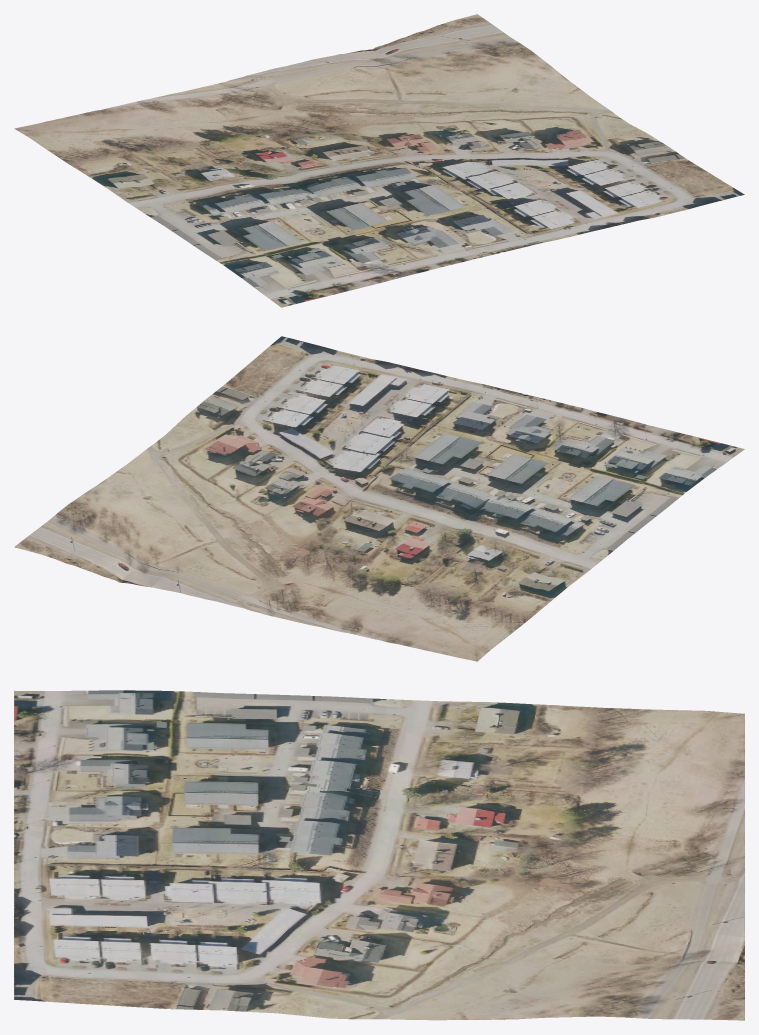
File: CM_Terrain_24490254_6818770.fbx
3 renders of one model, top to bottom at view 1: azimuth 30°, elevation 25°; view 2: azimuth 150°, elevation 25°; view 3: azimuth 270°, elevation 25°, orthographic. The views are drawn at different scales.
Parts seen in each view (by area): view 1: CM_Terrain_24490254_6818770_LOD0; view 2: CM_Terrain_24490254_6818770_LOD0; view 3: CM_Terrain_24490254_6818770_LOD0.
Boxes of the visible parts, bbox=[...] form: CM_Terrain_24490254_6818770_LOD0: bbox=[14, 14, 744, 307]; CM_Terrain_24490254_6818770_LOD0: bbox=[14, 336, 744, 661]; CM_Terrain_24490254_6818770_LOD0: bbox=[14, 690, 744, 1020].
Size of what is drawn, in the model's own units: 205 by 11.25 by 205.
